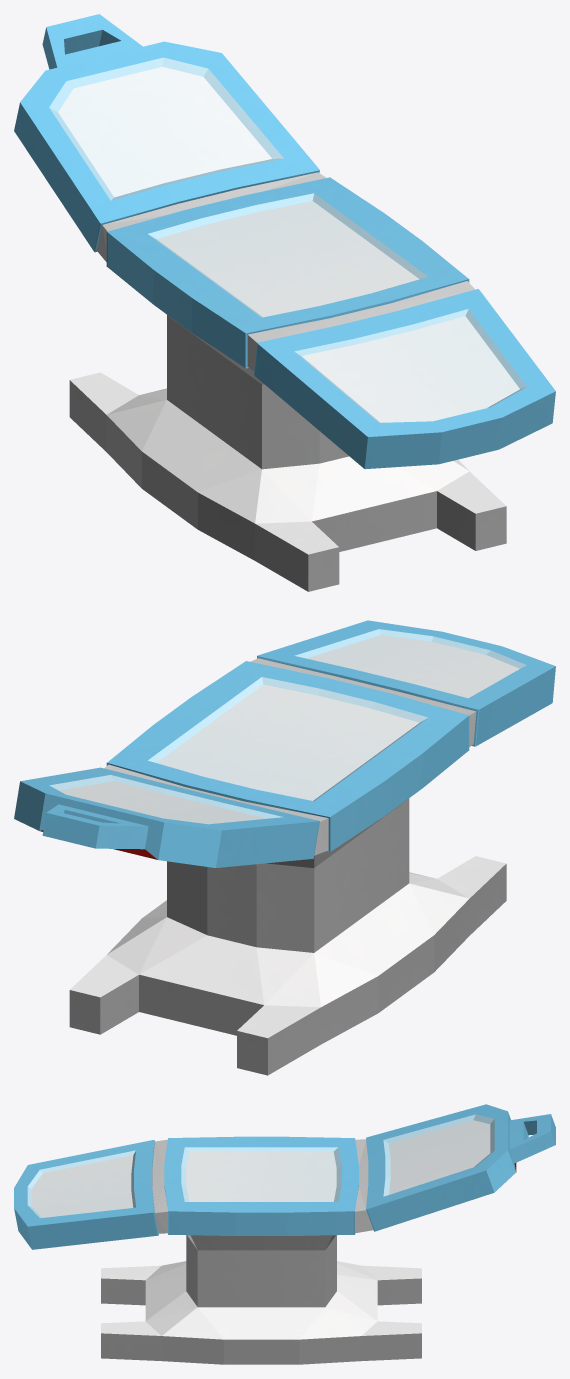
Rendered from bed_4.dae.
The picture shows the model from 3 angles, top to bottom: view 1: azimuth 30°, elevation 25°; view 2: azimuth 150°, elevation 25°; view 3: azimuth 270°, elevation 25°; orthographic projection. The views are drawn at different scales.
Parts seen in each view (by area): view 1: bed_4; view 2: bed_4; view 3: bed_4.
Part boxes in pixels (left/top/right/bottom): bed_4: left=14, top=14, right=555, bottom=591; bed_4: left=14, top=620, right=555, bottom=1075; bed_4: left=14, top=1104, right=555, bottom=1364.
Size of the model in its own units: 0.5363 by 1.58 by 0.6555.
